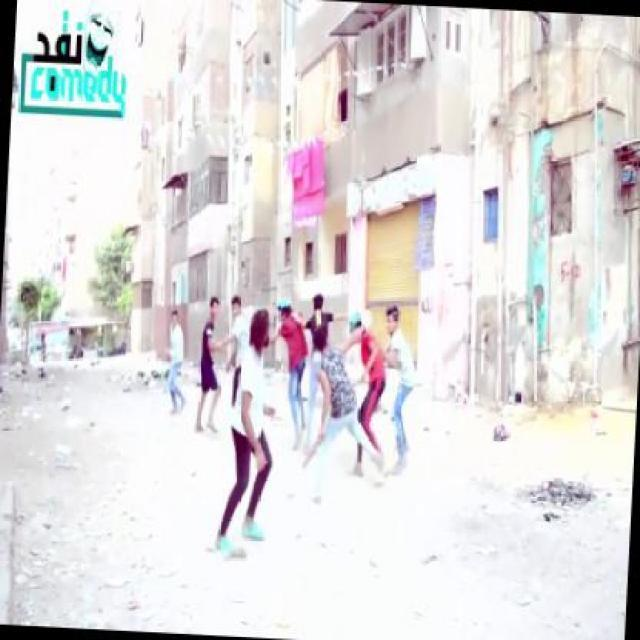fight: (298, 308, 391, 484)
non-fight: (214, 308, 280, 552), (191, 294, 226, 431), (160, 304, 192, 418)
